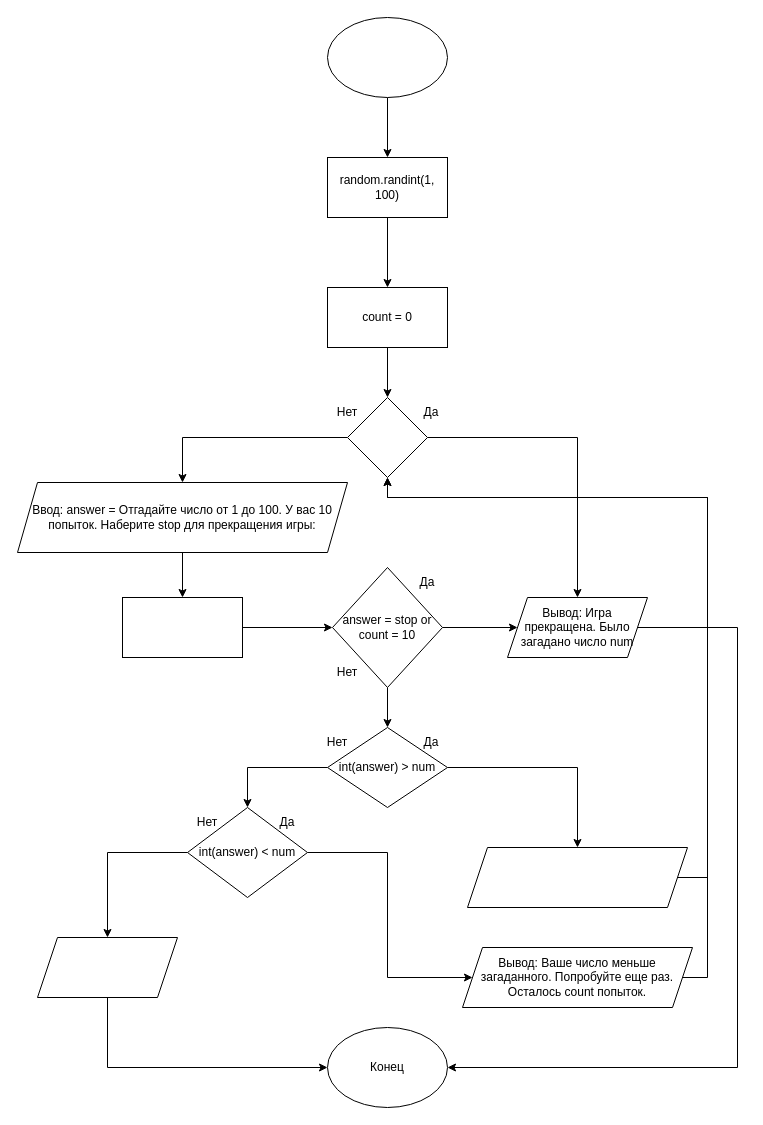
This 763x1125 diagram has some shape labels left out. The shapes that lost their labels are listed below. From the top down, each one's box as (x1, y1, x2, y2) in pixels, then its label:
(326, 16, 448, 98): Начало
(346, 396, 428, 478): count <= 10
(122, 596, 242, 658): count += 1
(466, 846, 688, 908): Вывод:Ваше число больше загаданного. попробуйте еще раз. Осталось count попыток.
(36, 936, 178, 998): Вывод: Верно! Вы победили!
